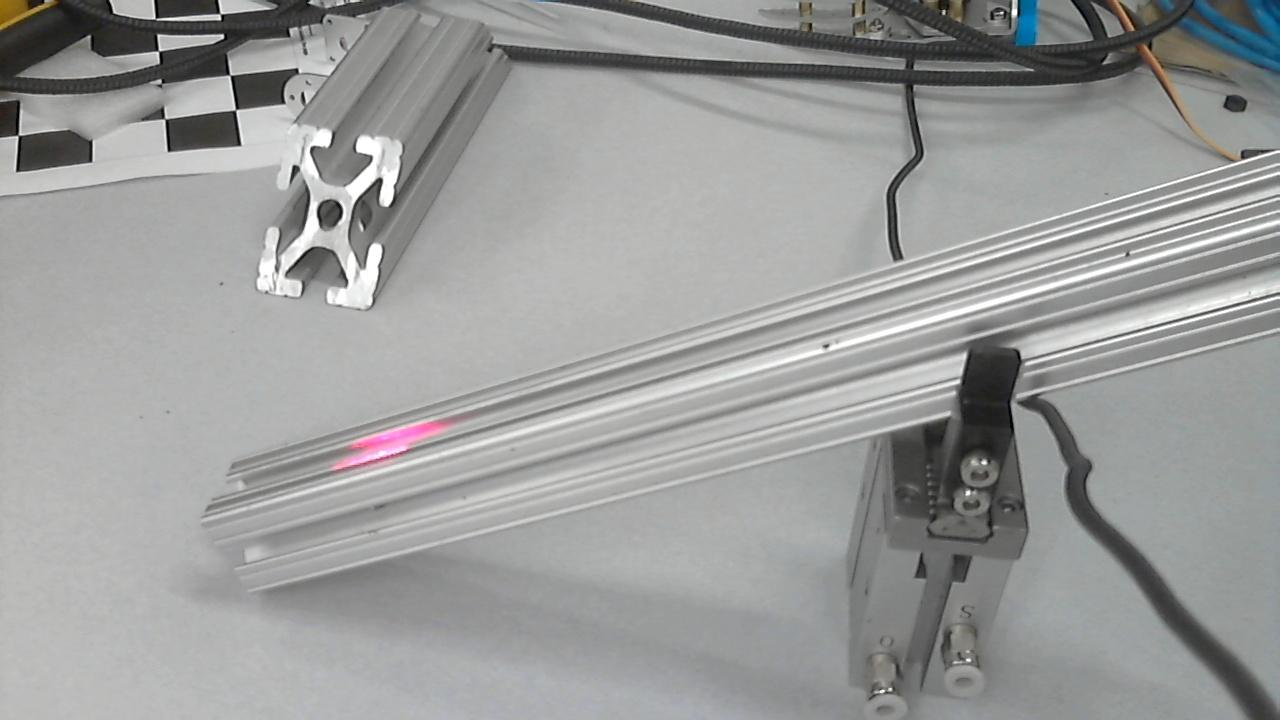Object - extruded aluminum profile - Material metal - Pdfname IJiB5jbMhrV7: (332, 408, 456, 481)
